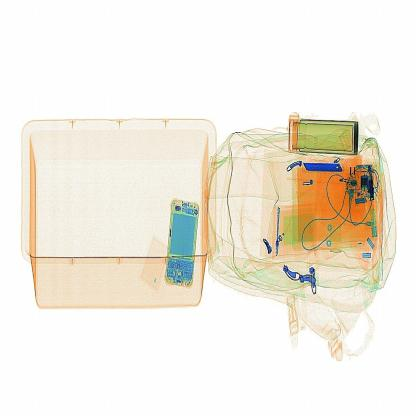pliers: (300, 156, 348, 180)
